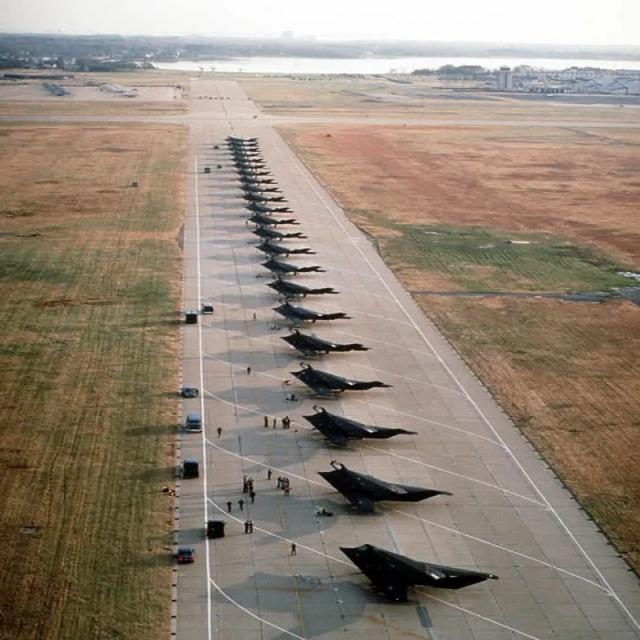F117: (336, 530, 534, 626), (309, 449, 471, 516), (294, 349, 388, 403), (307, 398, 407, 442), (282, 317, 368, 363)
